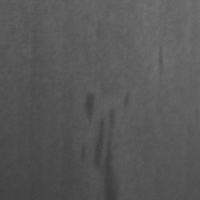inclusion: (79, 89, 132, 200), (79, 84, 101, 125), (153, 42, 169, 79)
